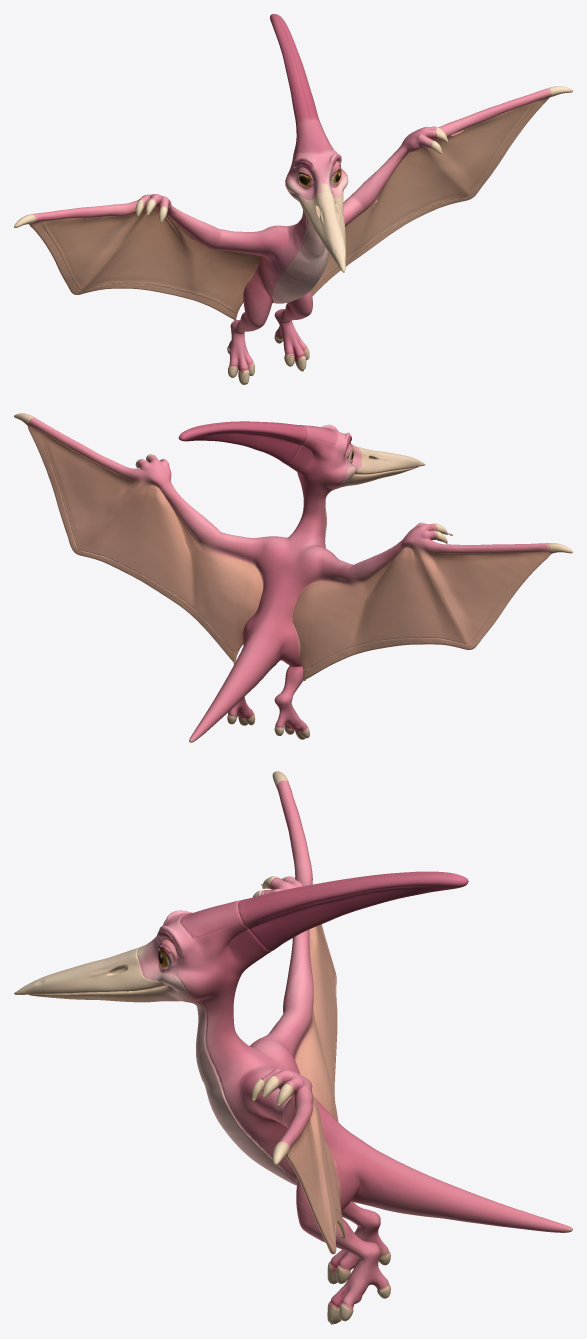
The model's file is pteranodon-tripo.glb.
3 renders of one model, top to bottom at view 1: azimuth 30°, elevation 25°; view 2: azimuth 150°, elevation 25°; view 3: azimuth 270°, elevation 25°, orthographic. The views are drawn at different scales.
Parts seen in each view (by area): view 1: tripo_part_0, tripo_part_1, tripo_part_2, tripo_part_3, tripo_part_6, tripo_part_5, tripo_part_4, tripo_part_8, tripo_part_7; view 2: tripo_part_1, tripo_part_0, tripo_part_3, tripo_part_2, tripo_part_4, tripo_part_6, tripo_part_5, tripo_part_8, tripo_part_7; view 3: tripo_part_3, tripo_part_2, tripo_part_0, tripo_part_1, tripo_part_8, tripo_part_7, tripo_part_6, tripo_part_4, tripo_part_5.
Boxes of the visible parts, x1,y1,x2,y2 form: tripo_part_0: (14, 200, 261, 320); tripo_part_1: (311, 86, 572, 295); tripo_part_2: (270, 14, 348, 201); tripo_part_3: (255, 210, 329, 303); tripo_part_6: (135, 194, 287, 259); tripo_part_5: (227, 273, 272, 384); tripo_part_4: (343, 126, 448, 226); tripo_part_8: (297, 191, 346, 272); tripo_part_7: (274, 290, 312, 371); tripo_part_1: (14, 413, 263, 663); tripo_part_0: (292, 537, 572, 680); tripo_part_3: (189, 473, 333, 742); tripo_part_2: (178, 421, 361, 489); tripo_part_4: (135, 454, 286, 576); tripo_part_6: (298, 522, 452, 585); tripo_part_5: (274, 624, 309, 739); tripo_part_8: (342, 446, 425, 486); tripo_part_7: (227, 615, 255, 725); tripo_part_3: (192, 978, 572, 1232); tripo_part_2: (137, 871, 468, 1002); tripo_part_0: (272, 771, 338, 1121); tripo_part_1: (272, 1084, 345, 1254); tripo_part_8: (14, 947, 177, 1002); tripo_part_7: (296, 1155, 390, 1324); tripo_part_6: (250, 876, 313, 1074); tripo_part_4: (239, 1066, 312, 1127); tripo_part_5: (327, 1201, 390, 1284).
Bounding box in the file's own units: 0.9864 × 0.5423 × 0.5958.
1 material, 1 textured.
